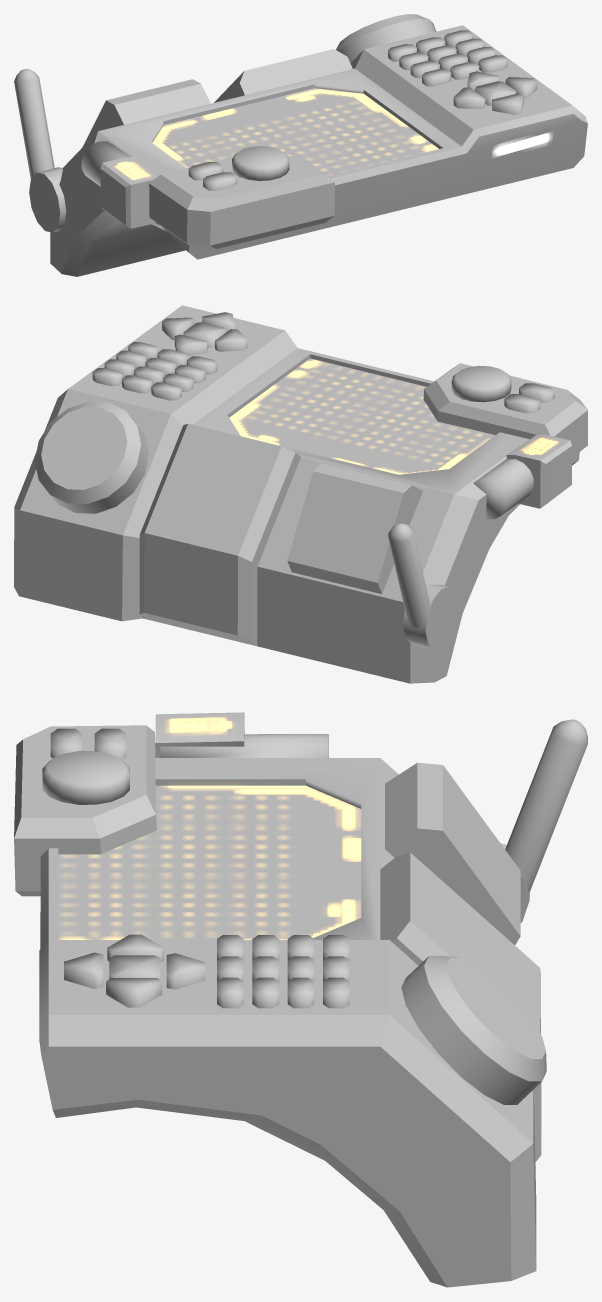
File: ArmPC_Unrigged.fbx
3 renders of one model, top to bottom at view 1: azimuth 30°, elevation 25°; view 2: azimuth 150°, elevation 25°; view 3: azimuth 270°, elevation 25°, orthographic. The views are drawn at different scales.
Visible parts, largest first — view 1: ArmPC_Unrigged; view 2: ArmPC_Unrigged; view 3: ArmPC_Unrigged.
Part boxes in pixels (x1,y1,x2,y2): ArmPC_Unrigged: [14, 14, 587, 276]; ArmPC_Unrigged: [14, 305, 587, 683]; ArmPC_Unrigged: [14, 712, 587, 1287].
Size of the model in its own units: 0.1912 by 0.0791 by 0.1444.
